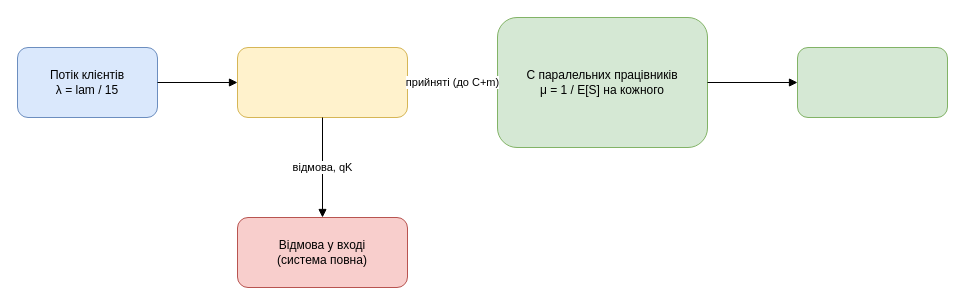
Image size: 965x305. Some labels were removed from this diagram. Each missing label, with the centre of its shape:
"Обслуговані клієнти" belongs at [872,82].
"Черга очікування m місць" belongs at [322,82].
